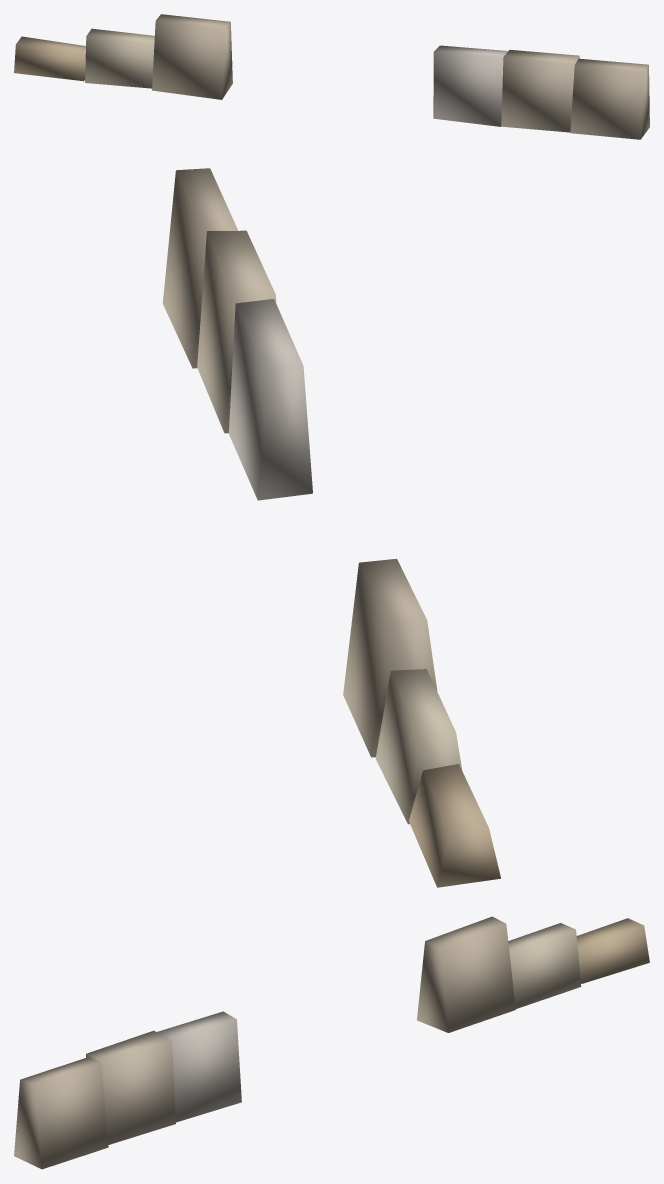
Rendered from farm_-9_8_far.glb.
3 renders of one model, top to bottom at view 1: azimuth 30°, elevation 25°; view 2: azimuth 150°, elevation 25°; view 3: azimuth 270°, elevation 25°, orthographic. The views are drawn at different scales.
Visible parts, largest first — view 1: geometry_0; view 2: geometry_0; view 3: geometry_0.
Boxes of the visible parts, x1,y1,x2,y2 form: geometry_0: (14, 14, 649, 139); geometry_0: (162, 168, 500, 887); geometry_0: (14, 916, 649, 1169).
Bounding box in the file's own units: 9.5 × 1.93 × 10.45.
